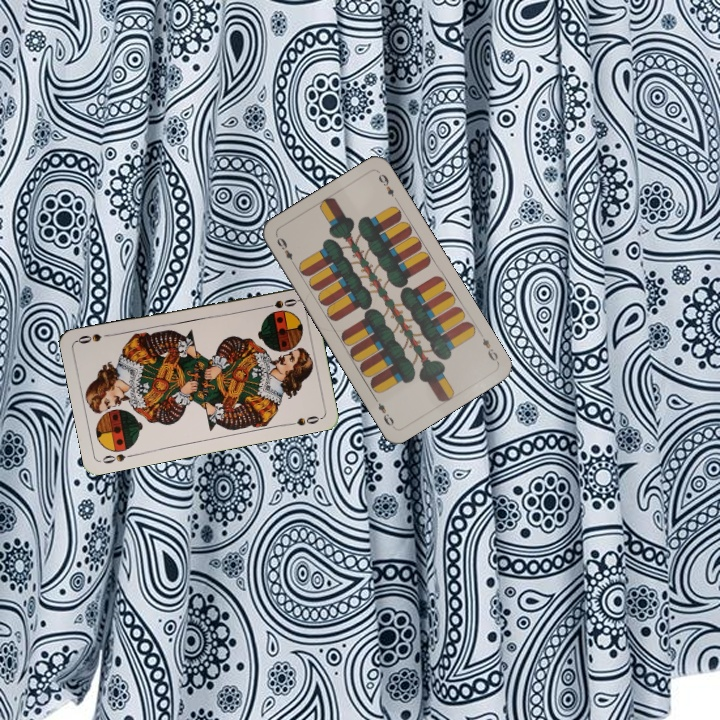E9: (272, 232, 299, 269), (475, 328, 501, 365)
SO: (259, 294, 299, 311), (98, 449, 138, 466)
